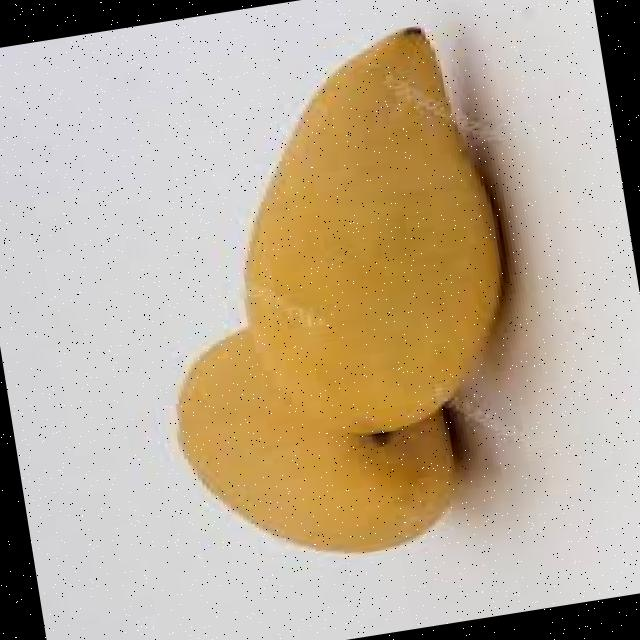mango: (249, 24, 508, 433)
